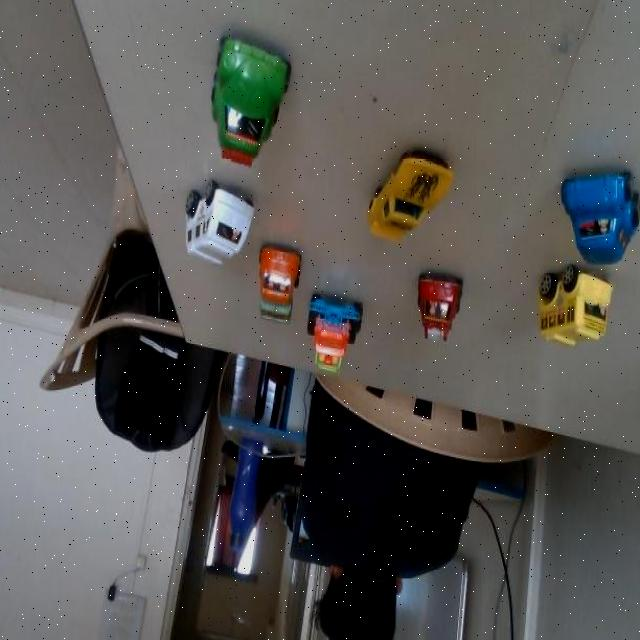car: (144, 0, 328, 196), (157, 154, 272, 296), (337, 133, 467, 254), (554, 158, 639, 270), (525, 256, 602, 345), (245, 231, 307, 341), (302, 294, 374, 386), (404, 262, 465, 350)
